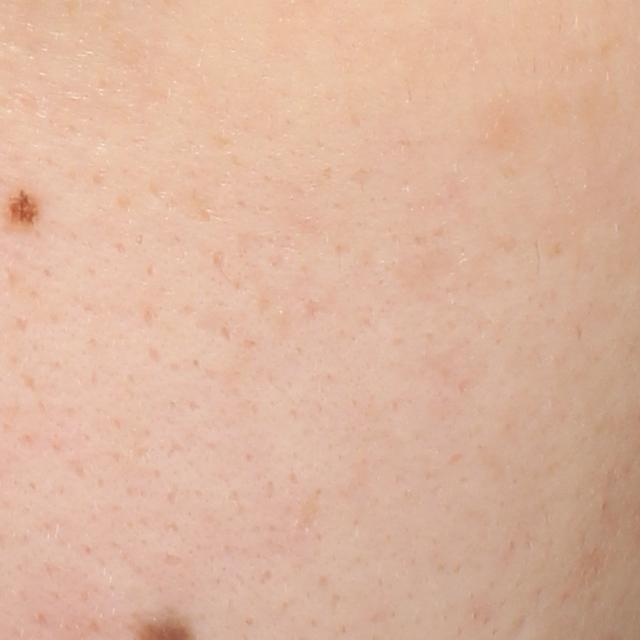nevus: (3, 184, 47, 234)
